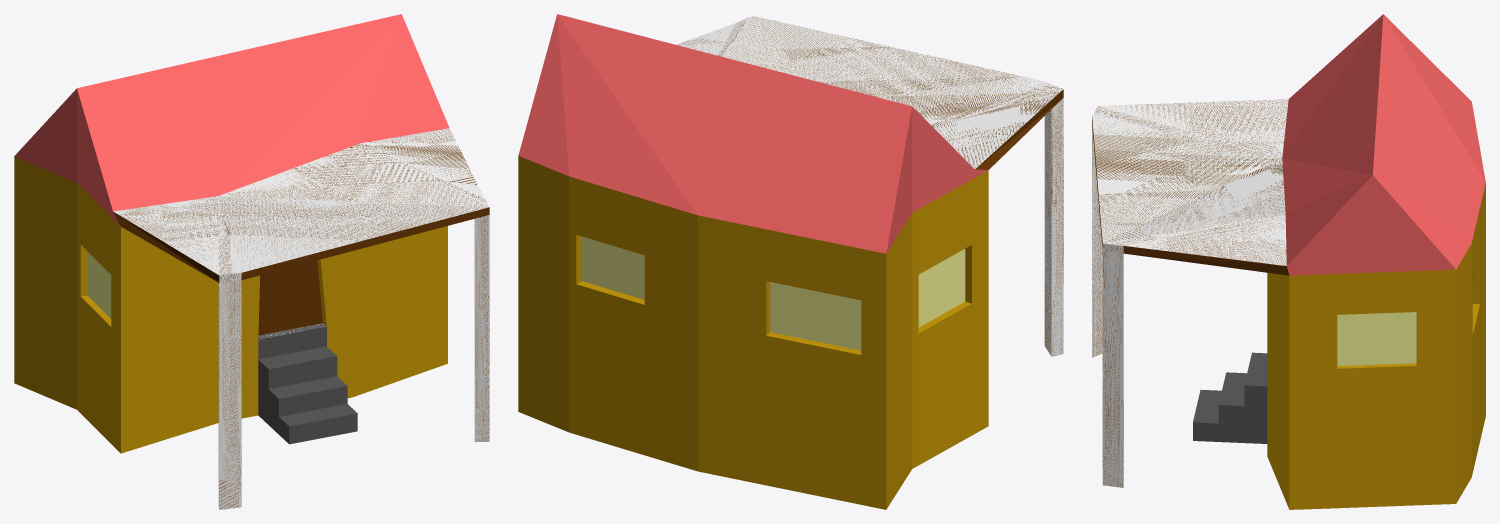
Rendered from farm.dae.
3 renders of one model, left to right at view 1: azimuth 30°, elevation 25°; view 2: azimuth 150°, elevation 25°; view 3: azimuth 270°, elevation 25°, orthographic. The views are drawn at different scales.
Visible parts, largest first — view 1: SketchUp (×9); view 2: SketchUp (×10); view 3: SketchUp (×7).
Part boxes in pixels (x1,y1,x2,y2): SketchUp (×9): (14, 14, 489, 509); SketchUp (×10): (518, 14, 1063, 509); SketchUp (×7): (1092, 14, 1485, 509).
Bounding box in the file's own units: 188 × 180 × 167.
